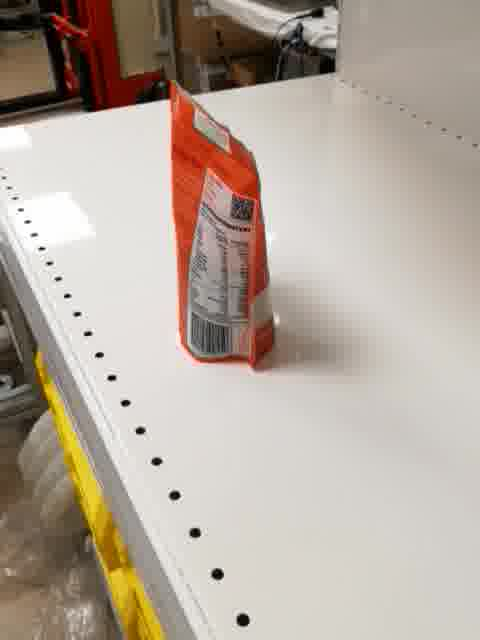whitechia: (169, 79, 278, 372)
